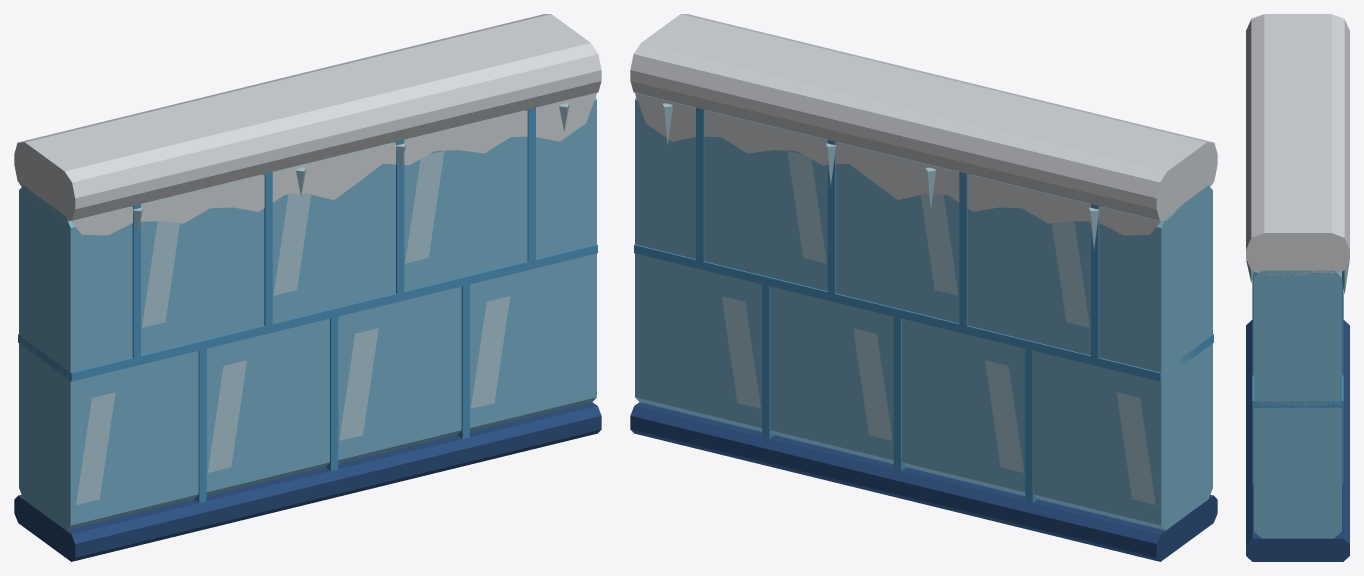
The model's file is ice-plotwall1.glb.
The picture shows the model from 3 angles, left to right: view 1: azimuth 30°, elevation 25°; view 2: azimuth 150°, elevation 25°; view 3: azimuth 270°, elevation 25°; orthographic projection. The views are drawn at different scales.
Visible parts, largest first — view 1: ice-plotwall1; view 2: ice-plotwall1; view 3: ice-plotwall1.
Part boxes in pixels (x1,y1,x2,y2): ice-plotwall1: (14,14,601,561); ice-plotwall1: (630,14,1217,561); ice-plotwall1: (1246,14,1349,561).
Size of the model in its own units: 2 by 1.4 by 0.4.
